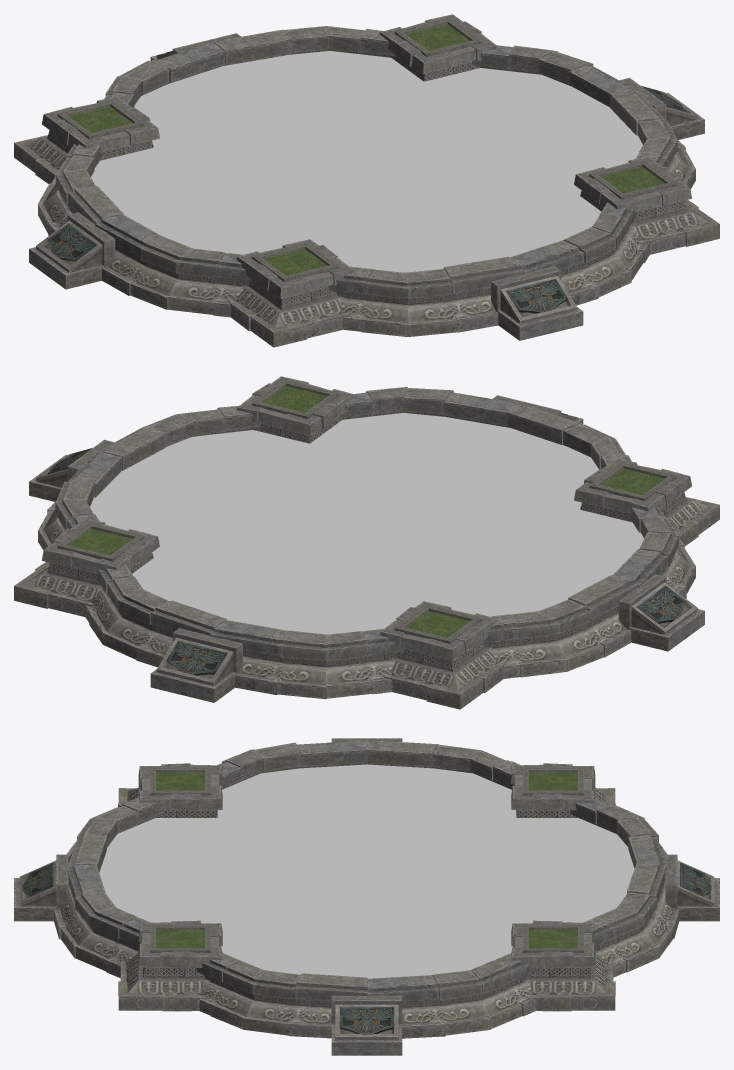
The model's file is bg_lut_lucastle_fountain02a_sm_bjh.FBX.
The picture shows the model from 3 angles, top to bottom: view 1: azimuth 30°, elevation 25°; view 2: azimuth 150°, elevation 25°; view 3: azimuth 270°, elevation 25°; orthographic projection. The views are drawn at different scales.
Visible parts, largest first — view 1: bg_lut_lucastle_fountain02a_sm_bjh; view 2: bg_lut_lucastle_fountain02a_sm_bjh; view 3: bg_lut_lucastle_fountain02a_sm_bjh.
Boxes of the visible parts, x1=… form: bg_lut_lucastle_fountain02a_sm_bjh: x1=14, y1=14, x2=719, y2=347; bg_lut_lucastle_fountain02a_sm_bjh: x1=14, y1=376, x2=719, y2=709; bg_lut_lucastle_fountain02a_sm_bjh: x1=14, y1=738, x2=719, y2=1055.
Bounding box in the file's own units: 1249 × 92.37 × 1249.
